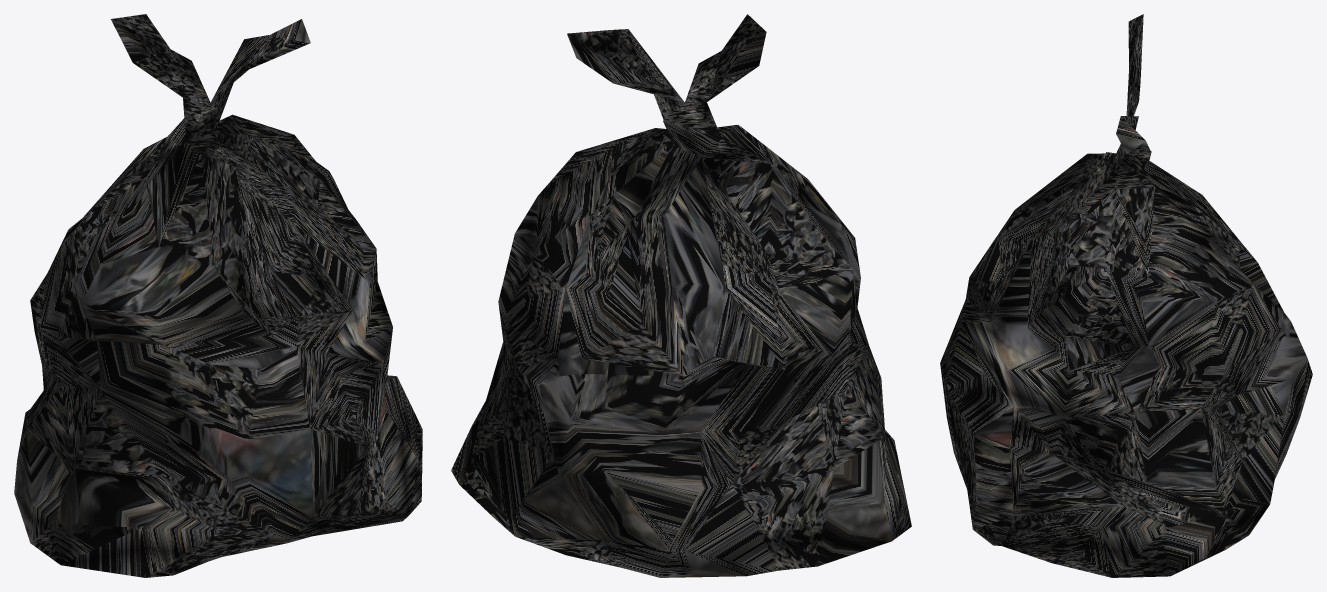
File: saco-lixo.glb
The picture shows the model from 3 angles, left to right: view 1: azimuth 30°, elevation 25°; view 2: azimuth 150°, elevation 25°; view 3: azimuth 270°, elevation 25°; orthographic projection. The views are drawn at different scales.
Size of the model in its own units: 0.7739 by 0.9365 by 0.7109.
Materials: 1 (1 with a texture image).
